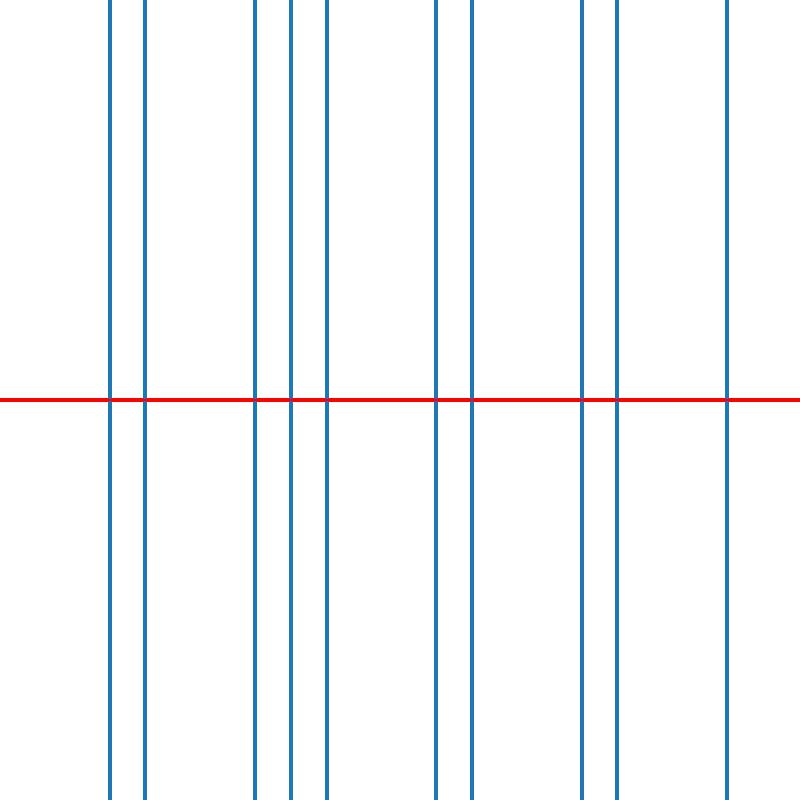root: (141, 396, 149, 404), (432, 396, 440, 404), (250, 396, 258, 404), (614, 396, 621, 404), (578, 396, 585, 404), (469, 396, 476, 404), (723, 396, 730, 404), (323, 396, 330, 404), (105, 396, 112, 404), (287, 396, 294, 404)
